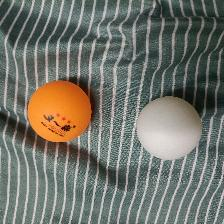WhiteBall: (136, 96, 202, 160)
YellowBall: (26, 80, 91, 142)
